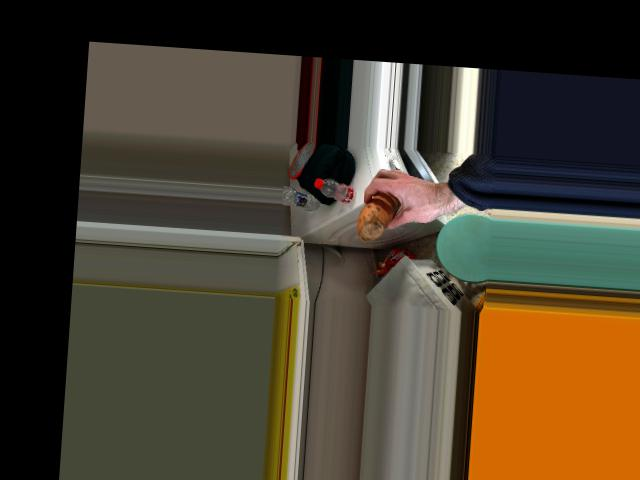sweet_potato: (355, 187, 401, 234)
